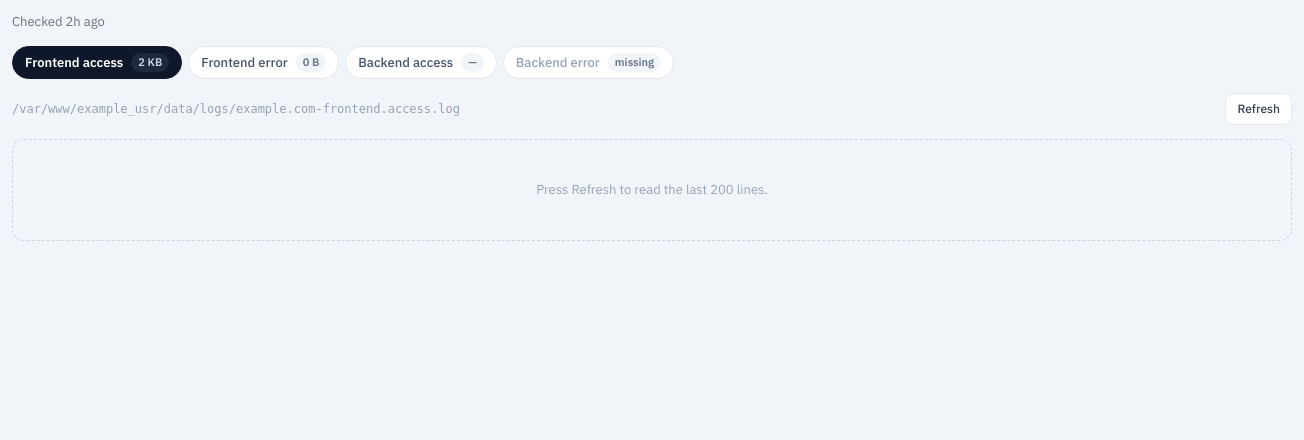
Test: чтение хвоста лога › Refresh читает ВЫБРАННЫЙ файл и печатает приехавшие строки
Click the button "Frontend error 0 B" at (264, 62), box [188, 46, 339, 79]
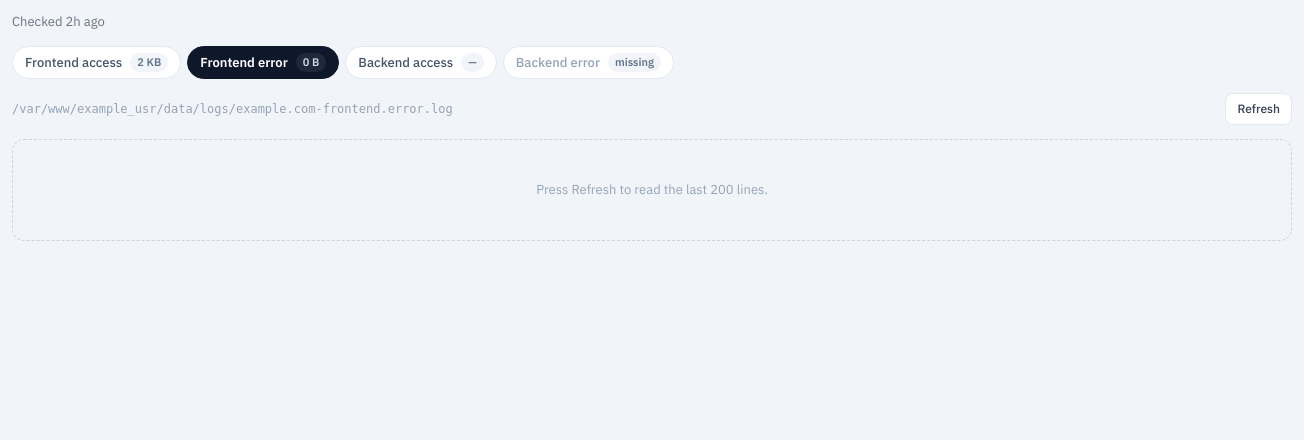
Click the button "Refresh" at (1259, 109), box [1226, 93, 1292, 125]
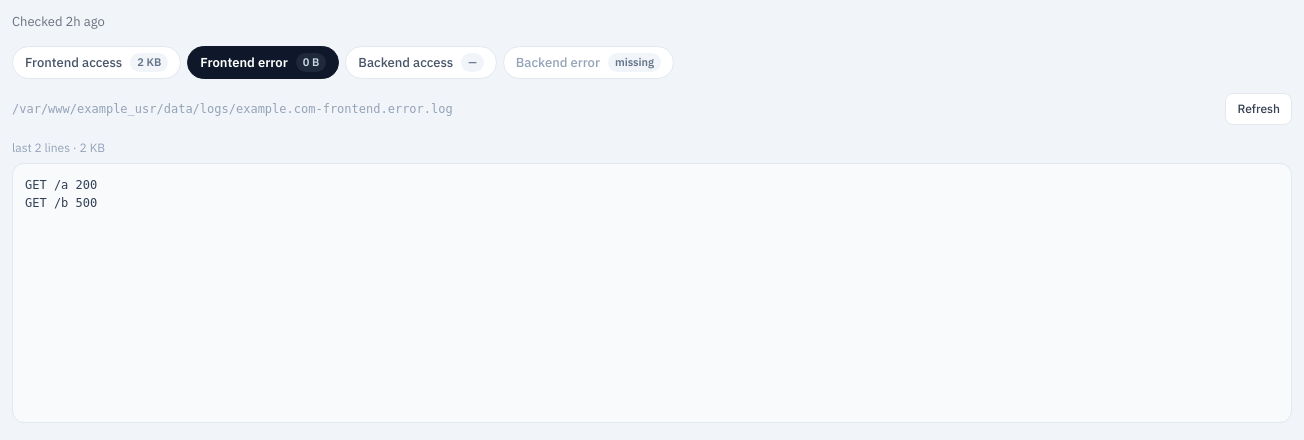
Now the text named "Log contents" shows "GET /b 500", box [25, 178, 97, 210]
